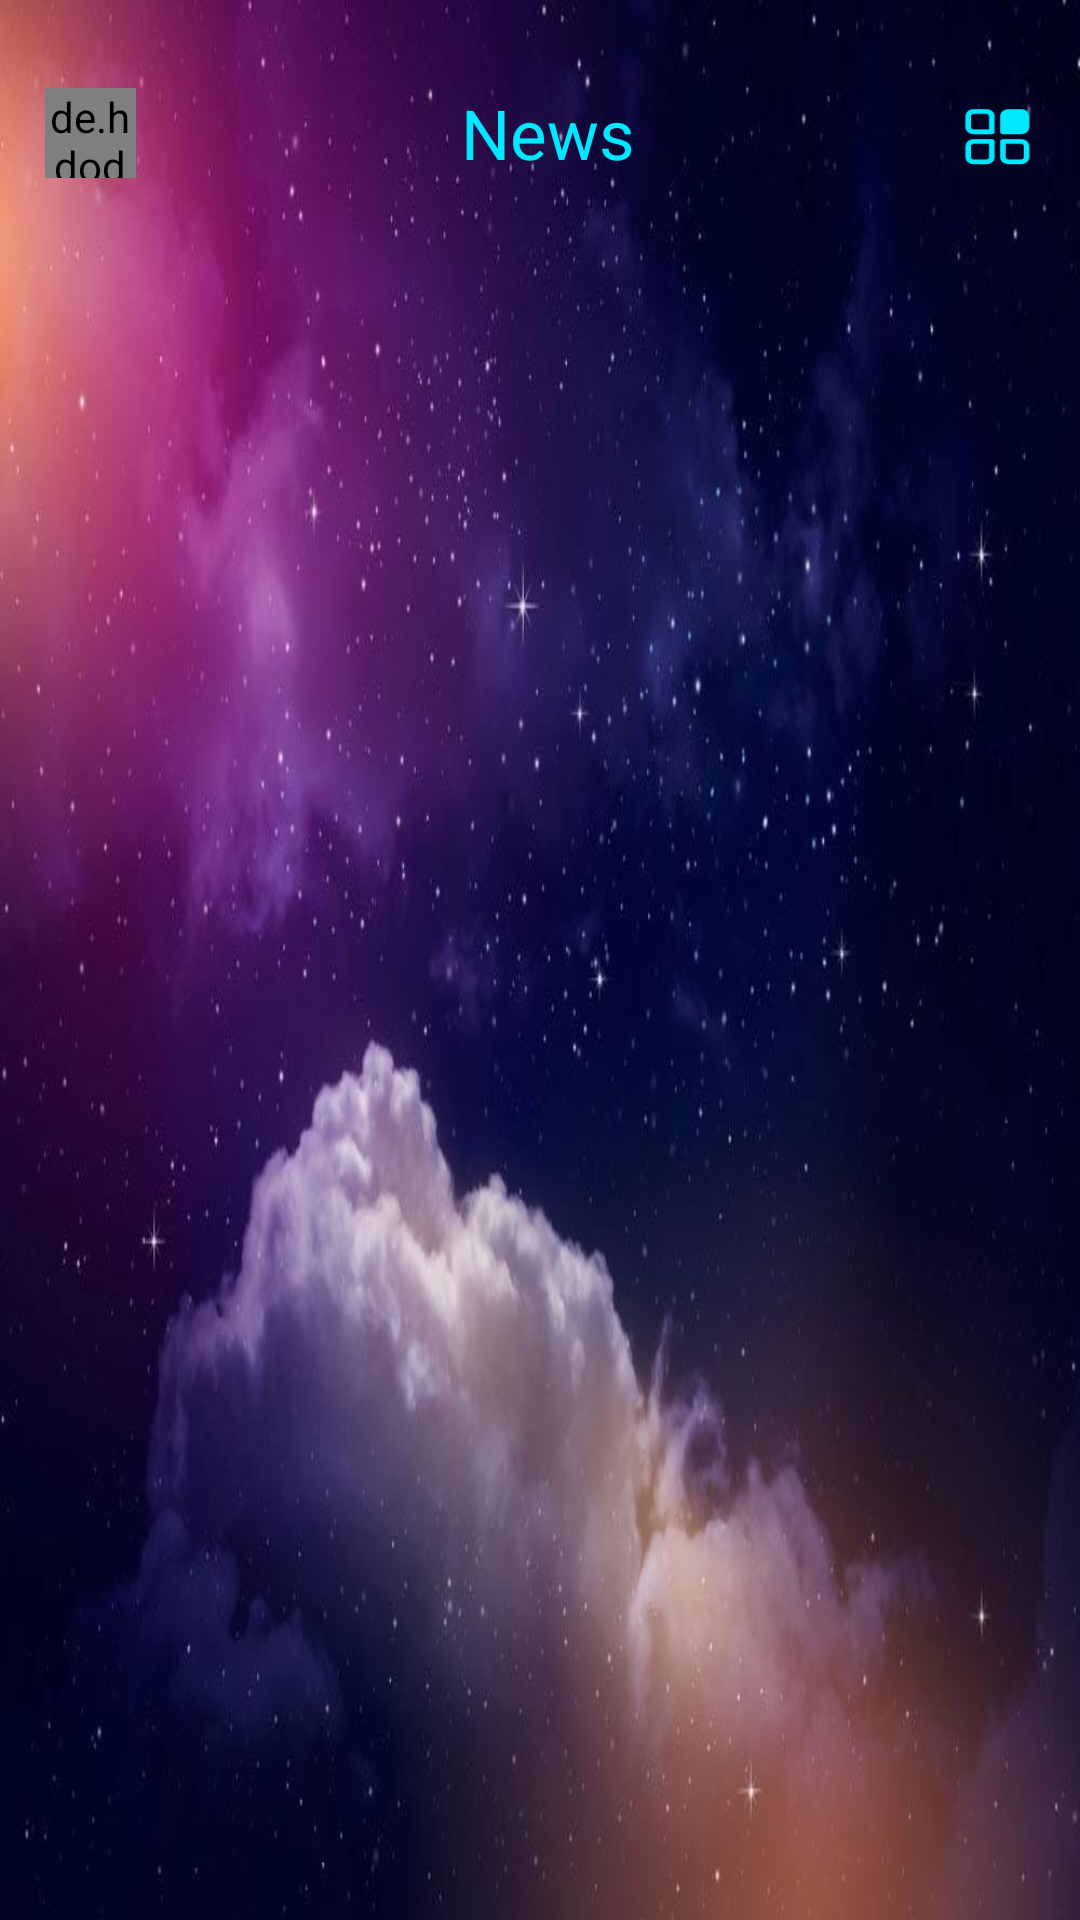

Icons on this 1080w x 1920h Android screen, each with the point to tap as (x,y):
moreb: (998,135)
